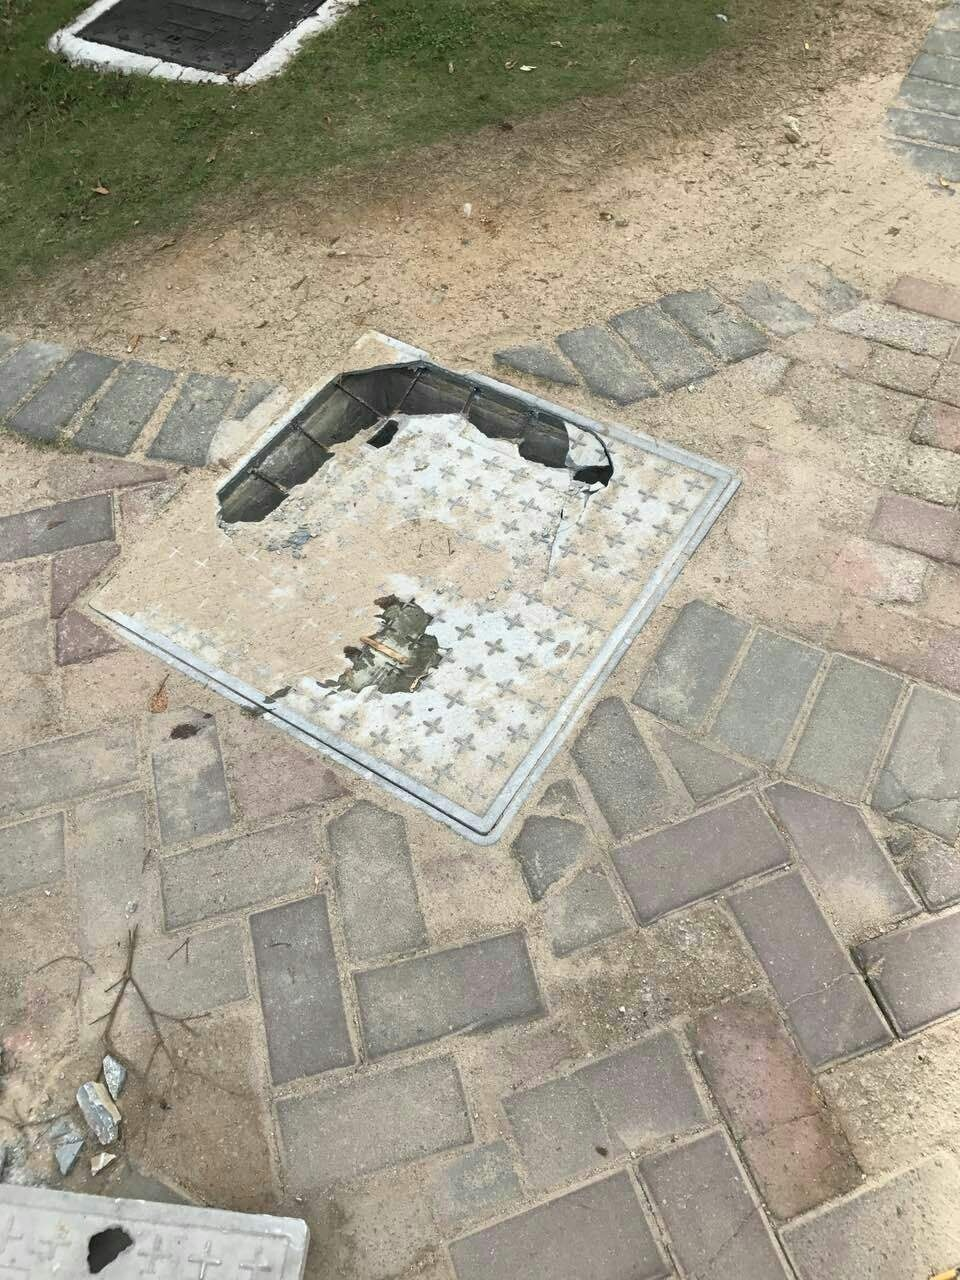broke: (68, 326, 739, 849)
